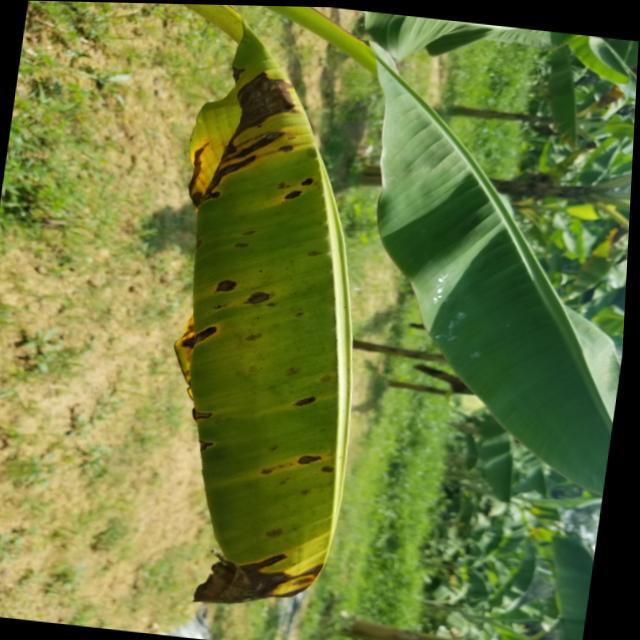Early_rust: (166, 54, 410, 640)
